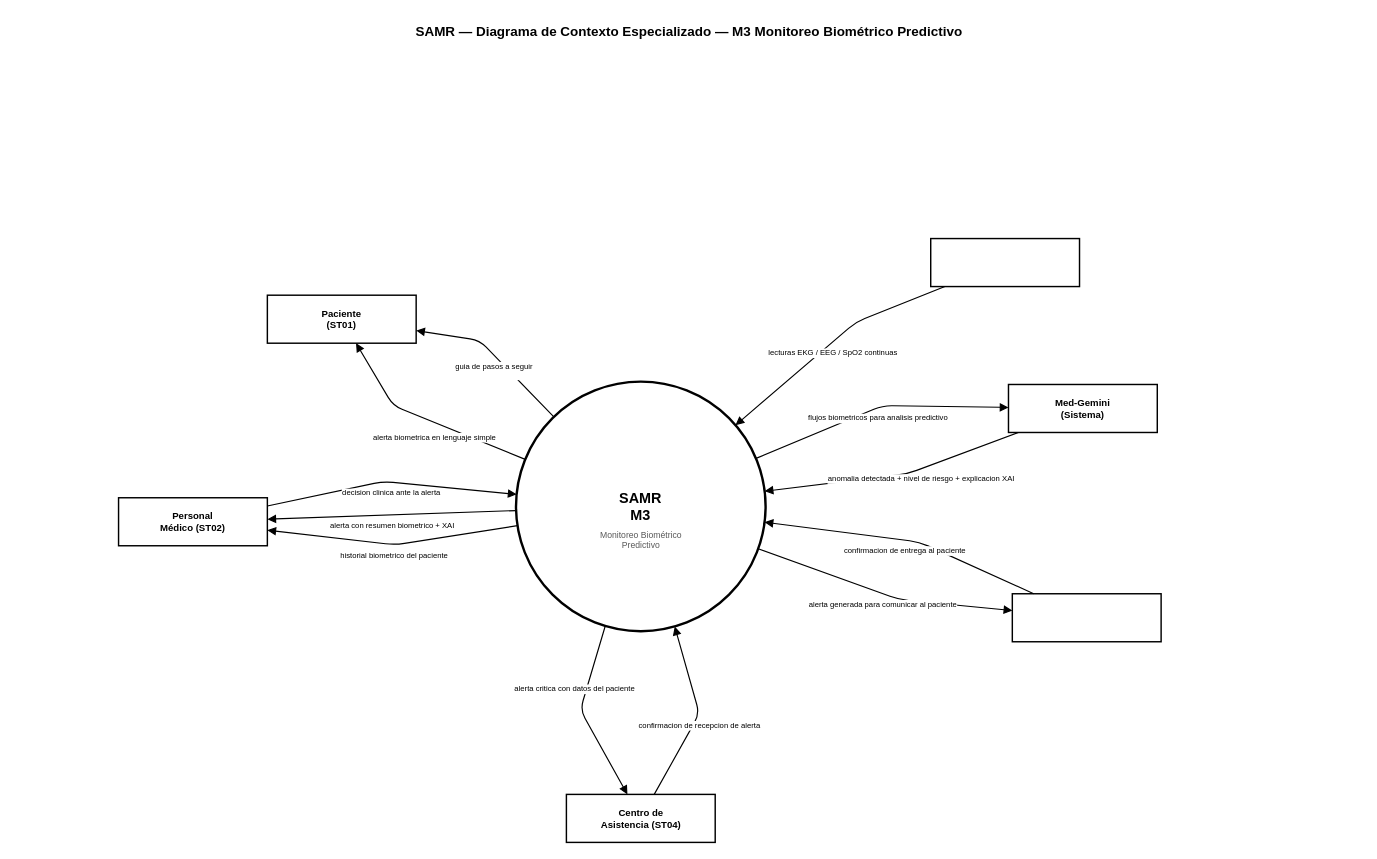
Image size: 1377x859. Some labels were removed from this diagram. Here are the shapes that lost their labels. From the top down, the centre of each, then its label:
At (x=1005, y=262): "Dispositivos IoT (EKG/EEG/O2)".
At (x=1086, y=617): "Bot Conversacional".
